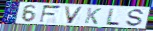6: (21, 4, 38, 23)
F: (38, 5, 63, 24)
K: (83, 7, 103, 26)
L: (104, 8, 121, 26)
S: (124, 8, 146, 27)
V: (64, 5, 86, 25)
